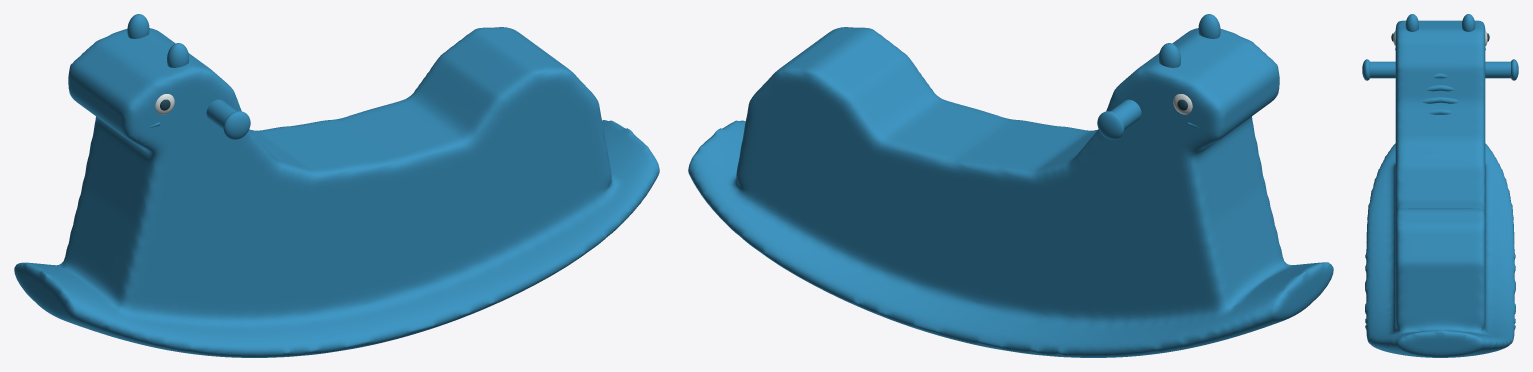
File: A-NEW-20261026-ROCKING-HORSE-001_LOD0_R5.fbx
3 renders of one model, left to right at view 1: azimuth 30°, elevation 25°; view 2: azimuth 150°, elevation 25°; view 3: azimuth 270°, elevation 25°, orthographic. The views are drawn at different scales.
Parts seen in each view (by area): view 1: molded blue horse body, handhold end -1, transverse molded handhold; view 2: molded blue horse body, handhold end 1, transverse molded handhold; view 3: molded blue horse body, transverse molded handhold, shallow ear -1, shallow ear 1, shallow mane ridge 2, handhold end -1, handhold end 1, shallow mane ridge 1.
Part boxes in pixels (x1=…): molded blue horse body: x1=14, y1=27, x2=659, y2=357; handhold end -1: x1=223, y1=111, x2=250, y2=139; transverse molded handhold: x1=206, y1=99, x2=236, y2=129; molded blue horse body: x1=688, y1=27, x2=1333, y2=357; handhold end 1: x1=1097, y1=111, x2=1124, y2=139; transverse molded handhold: x1=1111, y1=99, x2=1141, y2=129; molded blue horse body: x1=1365, y1=20, x2=1515, y2=357; transverse molded handhold: x1=1370, y1=61, x2=1510, y2=78; shallow ear -1: x1=1405, y1=14, x2=1418, y2=31; shallow ear 1: x1=1462, y1=14, x2=1475, y2=31; shallow mane ridge 2: x1=1422, y1=96, x2=1458, y2=103; handhold end -1: x1=1362, y1=59, x2=1369, y2=80; handhold end 1: x1=1511, y1=59, x2=1518, y2=80; shallow mane ridge 1: x1=1426, y1=84, x2=1454, y2=91.
Size of the model in its own units: 81 by 43.51 by 26.22.
